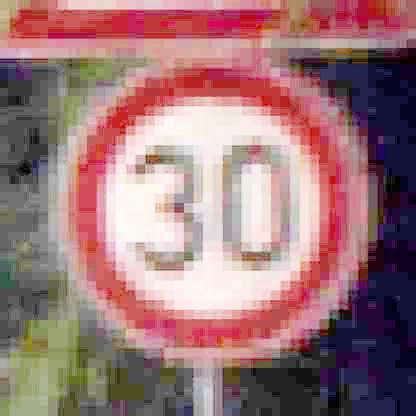Speed Limit -30-: (48, 50, 366, 359)
